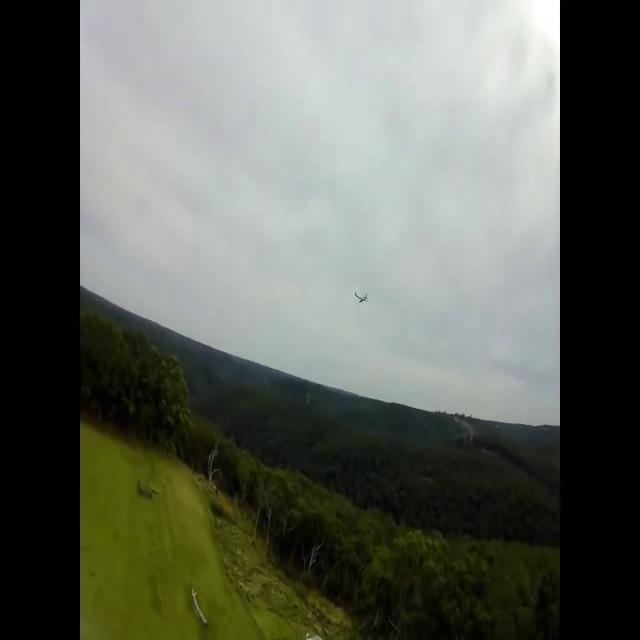iha: (353, 290, 369, 306)
